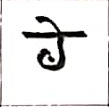e_matra: (34, 16, 67, 32)
